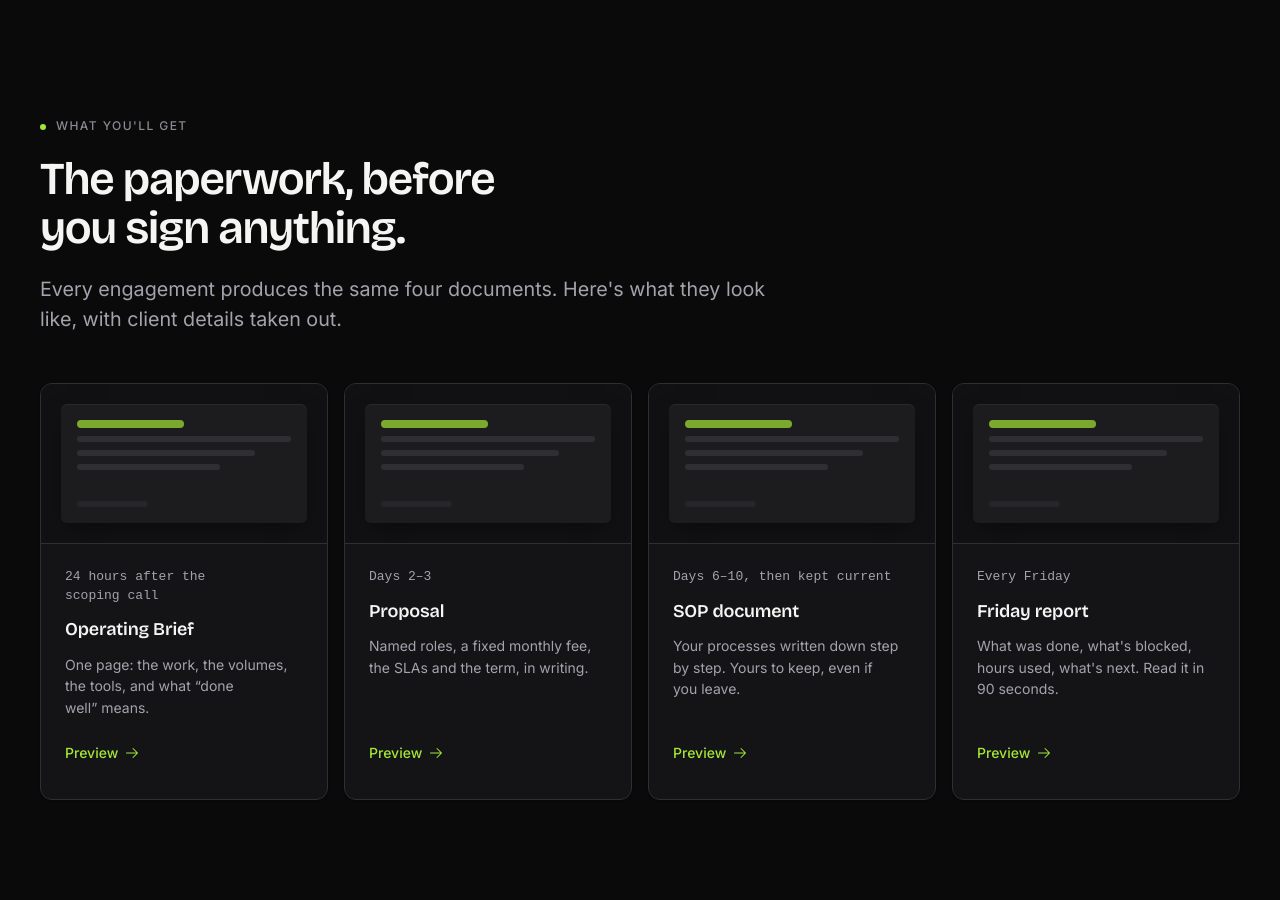
Test: ArtifactsGallery › opens an illustrative, labelled preview for each document
This screenshot has width=1280, height=900.
Click the button named "Preview the Operating Brief": click(103, 753) x1=65 y1=731 x2=140 y2=775
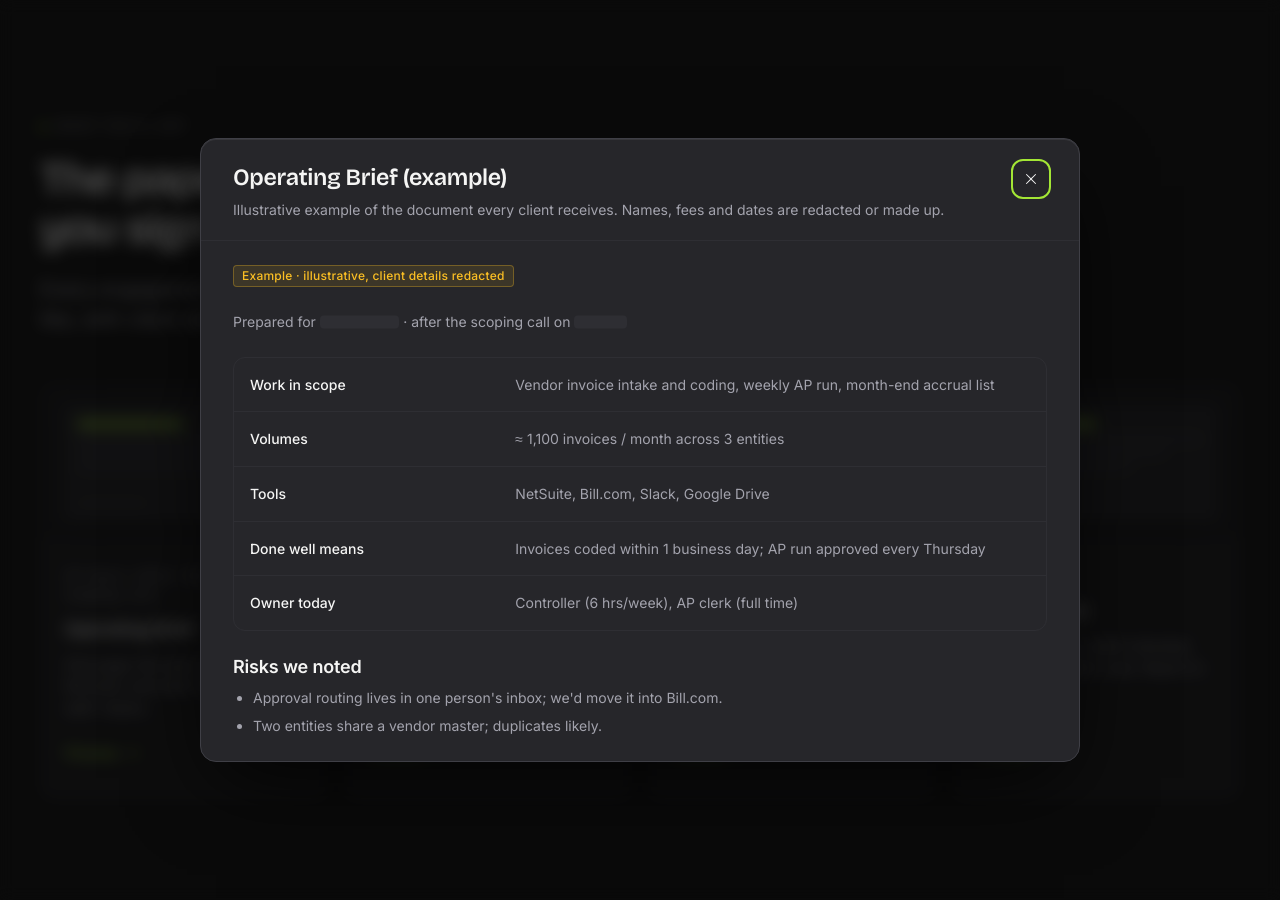
Expected: the text "Example · illustrative, client details redacted" is shown, x1=233 y1=265 x2=514 y2=287
